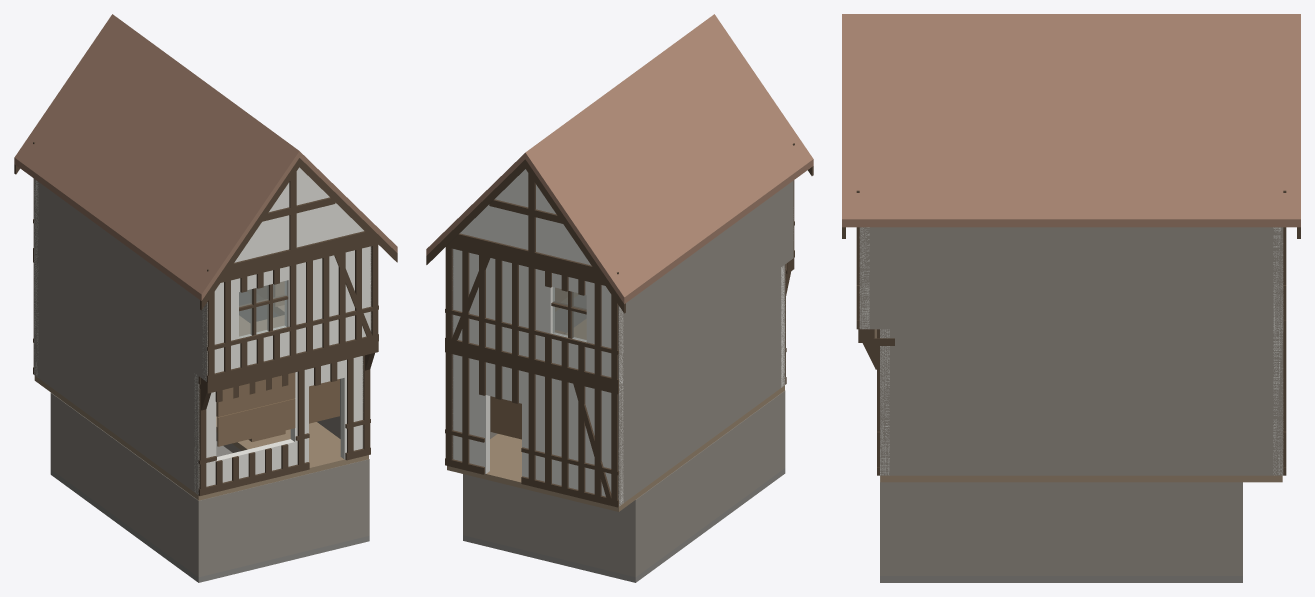
The model's file is artisan-b-v2.glb.
3 renders of one model, left to right at view 1: azimuth 30°, elevation 25°; view 2: azimuth 150°, elevation 25°; view 3: azimuth 270°, elevation 25°, orthographic. The views are drawn at different scales.
Visible parts, largest first — view 1: stone, roof, timber, render, floor, artisan-b-v2-shutter-02 leaf, flags, artisan-b-v2-shutter-01 leaf, glass, artisan-b-v2-door-01 leaf, stair; view 2: stone, roof, timber, render, floor, flags, glass, artisan-b-v2-door-02 leaf; view 3: stone, roof, floor, timber, flags, render.
Part boxes in pixels (bbox=[...]): stone: bbox=[34, 179, 371, 577]; roof: bbox=[14, 14, 397, 300]; timber: bbox=[14, 142, 397, 495]; render: bbox=[34, 167, 371, 494]; floor: bbox=[34, 290, 368, 500]; artisan-b-v2-shutter-02 leaf: bbox=[217, 398, 295, 446]; flags: bbox=[50, 441, 369, 582]; artisan-b-v2-shutter-01 leaf: bbox=[217, 372, 295, 416]; glass: bbox=[239, 280, 286, 338]; artisan-b-v2-door-01 leaf: bbox=[309, 379, 339, 423]; stair: bbox=[216, 281, 285, 441]; stone: bbox=[452, 180, 793, 577]; roof: bbox=[426, 14, 813, 303]; timber: bbox=[426, 143, 813, 507]; render: bbox=[453, 169, 785, 505]; floor: bbox=[447, 263, 786, 511]; flags: bbox=[463, 468, 785, 582]; glass: bbox=[552, 287, 586, 341]; artisan-b-v2-door-02 leaf: bbox=[490, 396, 521, 439]; stone: bbox=[859, 227, 1283, 575]; roof: bbox=[842, 14, 1300, 227]; floor: bbox=[874, 329, 1282, 482]; timber: bbox=[842, 190, 1300, 475]; flags: bbox=[880, 576, 1242, 582]; render: bbox=[859, 227, 1283, 475].
Size of the model in its own units: 5.5 by 11.33 by 9.1.
